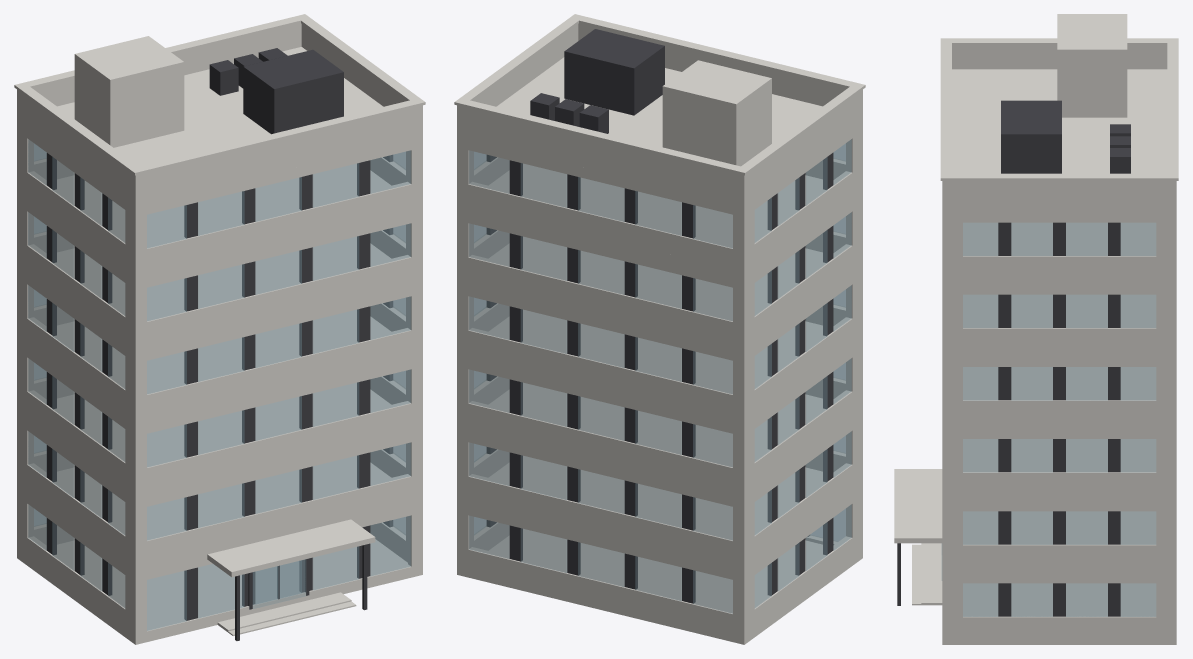
3 renders of one model, left to right at view 1: azimuth 30°, elevation 25°; view 2: azimuth 150°, elevation 25°; view 3: azimuth 270°, elevation 25°, orthographic.
Visible parts, largest first — view 1: F01_Slab, Roof_Slab, F04_Slab, F05_Slab, F02_Slab, F06_Slab, F03_Slab, Roof_Stair_Penthouse, Roof_Parapet_Front, F02_Front_Spandrel, F03_Front_Spandrel, F05_Front_Spandrel (+97 smaller); view 2: F04_Slab, F05_Slab, F02_Slab, F06_Slab, F03_Slab, F01_Slab, Roof_Stair_Penthouse, Roof_Slab, Roof_Parapet_Back, F02_Back_Spandrel, F03_Back_Spandrel, F01_Back_Spandrel (+92 smaller); view 3: Roof_Slab, Roof_Stair_Penthouse, F06_Slab, F01_Slab, F05_Slab, F03_Slab, F02_Slab, F04_Slab, Roof_Parapet_Right, F02_Right_Spandrel, F03_Right_Spandrel, F01_Right_Spandrel (+74 smaller).
Part boxes in pixels (x1=…): F01_Slab: x1=17, y1=539, x2=422, y2=644; Roof_Slab: x1=17, y1=47, x2=422, y2=206; F04_Slab: x1=17, y1=309, x2=422, y2=425; F05_Slab: x1=17, y1=236, x2=422, y2=352; F02_Slab: x1=17, y1=456, x2=422, y2=571; F06_Slab: x1=17, y1=163, x2=422, y2=279; F03_Slab: x1=17, y1=382, x2=422, y2=498; Roof_Stair_Penthouse: x1=74, y1=36, x2=184, y2=147; Roof_Parapet_Front: x1=131, y1=105, x2=422, y2=199; F02_Front_Spandrel: x1=131, y1=474, x2=422, y2=564; F03_Front_Spandrel: x1=131, y1=401, x2=422, y2=491; F05_Front_Spandrel: x1=131, y1=255, x2=422, y2=345; F04_Slab: x1=457, y1=309, x2=862, y2=425; F05_Slab: x1=457, y1=236, x2=862, y2=352; F02_Slab: x1=457, y1=456, x2=862, y2=571; F06_Slab: x1=457, y1=163, x2=862, y2=279; F03_Slab: x1=457, y1=382, x2=862, y2=498; F01_Slab: x1=457, y1=529, x2=862, y2=644; Roof_Stair_Penthouse: x1=662, y1=60, x2=771, y2=166; Roof_Slab: x1=457, y1=57, x2=862, y2=206; Roof_Parapet_Back: x1=457, y1=105, x2=748, y2=199; F02_Back_Spandrel: x1=457, y1=474, x2=748, y2=564; F03_Back_Spandrel: x1=457, y1=401, x2=748, y2=491; F01_Back_Spandrel: x1=457, y1=547, x2=748, y2=637; Roof_Slab: x1=942, y1=69, x2=1176, y2=211; Roof_Stair_Penthouse: x1=1057, y1=14, x2=1127, y2=117; F06_Slab: x1=942, y1=222, x2=1176, y2=284; F01_Slab: x1=942, y1=583, x2=1176, y2=644; F05_Slab: x1=942, y1=294, x2=1176, y2=356; F03_Slab: x1=942, y1=439, x2=1176, y2=500; F02_Slab: x1=942, y1=511, x2=1176, y2=572; F04_Slab: x1=942, y1=367, x2=1176, y2=428; Roof_Parapet_Right: x1=950, y1=181, x2=1168, y2=204; F02_Right_Spandrel: x1=950, y1=542, x2=1168, y2=565; F03_Right_Spandrel: x1=950, y1=470, x2=1168, y2=493; F01_Right_Spandrel: x1=950, y1=614, x2=1168, y2=637.
Size of what is drawn, in the model's own units: 14.16 by 23.95 by 12.13.
